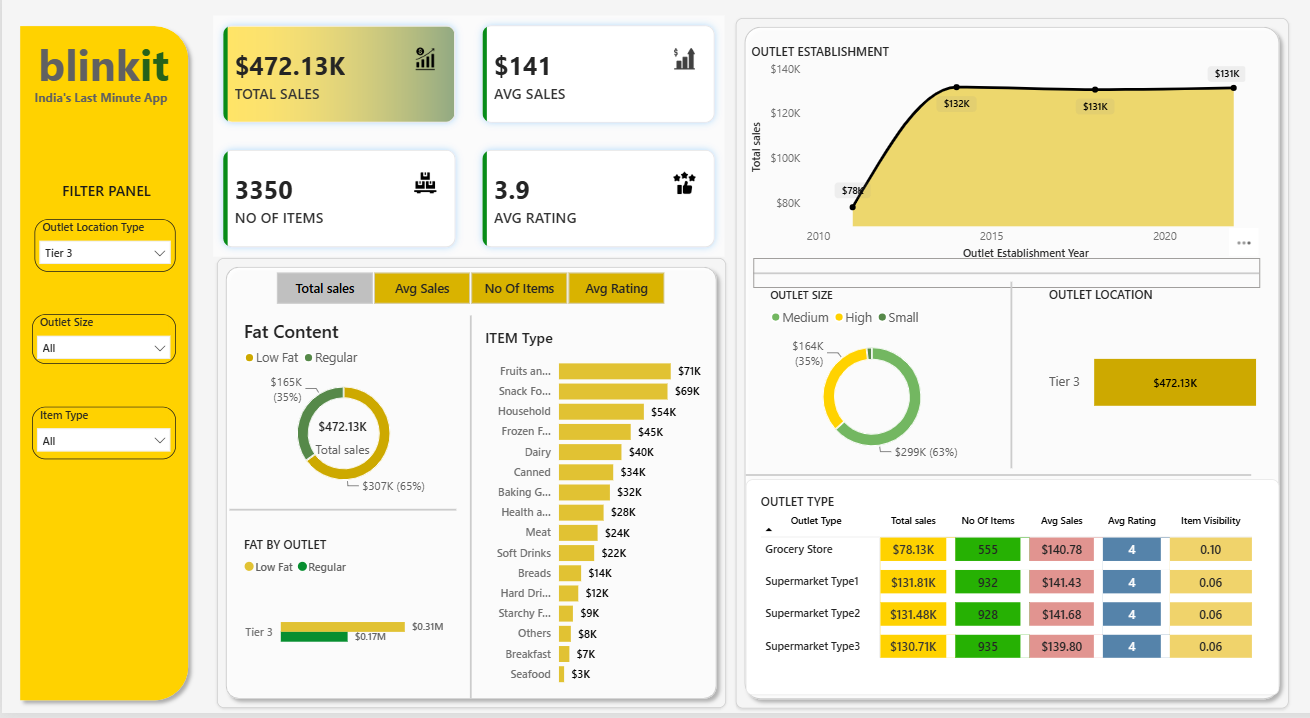

This screenshot's page, from the dashboard's own definition file:
{"tool":"powerbi","page":{"name":"Page 1","canvas":[1750,800],"ordinal":0},"visuals":[{"type":"shape","box":[11.5,27.9,204.9,767.2],"z":0},{"type":"textbox","box":[328,25,223,194],"z":1000},{"type":"textbox","box":[33.1,45.8,159.4,86.8],"z":2000},{"type":"cardVisual","fields":{"Data":["BlinkIT-Grocery-Data.Total sales","BlinkIT-Grocery-Data.Avg Sales","BlinkIT-Grocery-Data.No Of Items","BlinkIT-Grocery-Data.Avg Rating"]},"box":[235.1,25.2,569.7,269.8],"z":3000},{"type":"textbox","box":[36.3,105.7,179.9,26.8],"z":4000},{"type":"shape","box":[238.9,294.4,565.3,500],"z":5000},{"type":"donutChart","title":"Fat Content","fields":{"Category":["BlinkIT-Grocery-Data.Item Fat Content"],"Y":["BlinkIT-Grocery-Data.Total sales"]},"box":[252.2,347.8,253.7,226.9],"z":6000},{"type":"slicer","fields":{"Values":["metrix.metrix"]},"box":[285.1,309,470.1,38.8],"z":7000},{"type":"card","fields":{"Values":["BlinkIT-Grocery-Data.Total sales"]},"box":[316.7,446.7,123.3,93.3],"z":8000},{"type":"clusteredBarChart","title":"FAT BY OUTLET","fields":{"Category":["BlinkIT-Grocery-Data.Outlet Location Type"],"Series":["BlinkIT-Grocery-Data.Item Fat Content"],"Y":["BlinkIT-Grocery-Data.Total sales"]},"box":[252.2,589.6,253.7,189.6],"z":9000},{"type":"shape","box":[252.2,556.7,252.2,34.3],"z":10000},{"type":"shape","box":[494.2,358.7,52.9,426],"z":11000},{"type":"barChart","title":"ITEM Type","fields":{"Category":["BlinkIT-Grocery-Data.Item Type"],"Y":["BlinkIT-Grocery-Data.Total sales"]},"box":[521,357,272,434],"z":12000},{"type":"shape","box":[815.7,27.1,614.3,767.1],"z":13000},{"type":"lineChart","title":"OUTLET ESTABLISHMENT","fields":{"Category":["BlinkIT-Grocery-Data.Outlet Establishment Year"],"Y":["BlinkIT-Grocery-Data.Total sales"]},"box":[816.2,41.2,580.9,270.6],"z":14000},{"type":"shape","box":[835,294,562,34],"z":15000},{"type":"donutChart","title":"OUTLET SIZE","fields":{"Category":["BlinkIT-Grocery-Data.Outlet Size"],"Y":["BlinkIT-Grocery-Data.Total sales"]},"box":[837.3,311.9,258.2,225.4],"z":16000},{"type":"shape","box":[1101.5,320.9,40.3,207.5],"z":17000},{"type":"funnel","title":"OUTLET LOCATION","fields":{"Category":["BlinkIT-Grocery-Data.Outlet Location Type"],"Y":["BlinkIT-Grocery-Data.Total sales"]},"box":[1147.8,310.4,267.2,225.4],"z":18000},{"type":"shape","box":[826.7,518.3,561.7,35],"z":19000},{"type":"pivotTable","title":"OUTLET TYPE","fields":{"Rows":["BlinkIT-Grocery-Data.Outlet Type"],"Values":["BlinkIT-Grocery-Data.Total sales","BlinkIT-Grocery-Data.No Of Items","BlinkIT-Grocery-Data.Avg Sales","BlinkIT-Grocery-Data.Avg Rating","Avg(BlinkIT-Grocery-Data.Item Visibility)"]},"box":[826.5,539.7,592.6,239.7],"z":20000},{"type":"slicer","fields":{"Values":["BlinkIT-Grocery-Data.Outlet Location Type"]},"box":[35.8,250.7,156.7,58.2],"z":21000},{"type":"slicer","fields":{"Values":["BlinkIT-Grocery-Data.Outlet Size"]},"box":[32.8,356.7,159.7,55.2],"z":22000},{"type":"slicer","fields":{"Values":["BlinkIT-Grocery-Data.Item Type"]},"box":[32.8,459.7,159.7,58.2],"z":23000},{"type":"shape","title":"FILTER PANEL","box":[38.7,208,154.7,24],"z":24000}]}

Visuals, with their boxes on the page's 1750x800 design canvas (x1, y1, x2, y2). These are canvas units, not pixel positions in the 1310x718 screenshot, which may show the page scaled, cropped or inside an application window:
shape: (x1=12, y1=28, x2=216, y2=795)
textbox: (x1=328, y1=25, x2=551, y2=219)
textbox: (x1=33, y1=46, x2=192, y2=133)
cardVisual - BlinkIT-Grocery-Data.Total sales x BlinkIT-Grocery-Data.Avg Sales: (x1=235, y1=25, x2=805, y2=295)
textbox: (x1=36, y1=106, x2=216, y2=132)
shape: (x1=239, y1=294, x2=804, y2=794)
"Fat Content" donutChart: (x1=252, y1=348, x2=506, y2=575)
slicer - metrix.metrix: (x1=285, y1=309, x2=755, y2=348)
card - BlinkIT-Grocery-Data.Total sales: (x1=317, y1=447, x2=440, y2=540)
"FAT BY OUTLET" clusteredBarChart: (x1=252, y1=590, x2=506, y2=779)
shape: (x1=252, y1=557, x2=504, y2=591)
shape: (x1=494, y1=359, x2=547, y2=785)
"ITEM Type" barChart: (x1=521, y1=357, x2=793, y2=791)
shape: (x1=816, y1=27, x2=1430, y2=794)
"OUTLET ESTABLISHMENT" lineChart: (x1=816, y1=41, x2=1397, y2=312)
shape: (x1=835, y1=294, x2=1397, y2=328)
"OUTLET SIZE" donutChart: (x1=837, y1=312, x2=1096, y2=537)
shape: (x1=1102, y1=321, x2=1142, y2=528)
"OUTLET LOCATION" funnel: (x1=1148, y1=310, x2=1415, y2=536)
shape: (x1=827, y1=518, x2=1388, y2=553)
"OUTLET TYPE" pivotTable: (x1=826, y1=540, x2=1419, y2=779)
slicer - BlinkIT-Grocery-Data.Outlet Location Type: (x1=36, y1=251, x2=192, y2=309)
slicer - BlinkIT-Grocery-Data.Outlet Size: (x1=33, y1=357, x2=192, y2=412)
slicer - BlinkIT-Grocery-Data.Item Type: (x1=33, y1=460, x2=192, y2=518)
"FILTER PANEL" shape: (x1=39, y1=208, x2=193, y2=232)
